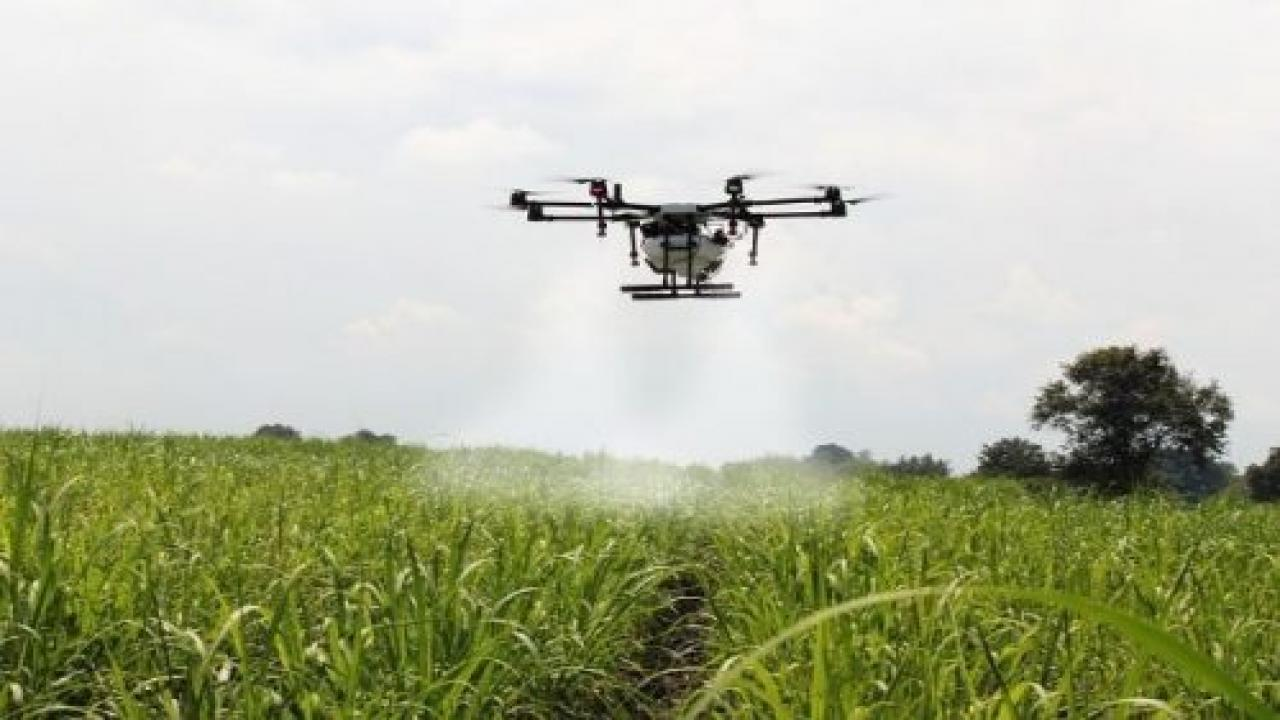Drone: (483, 161, 898, 321)
